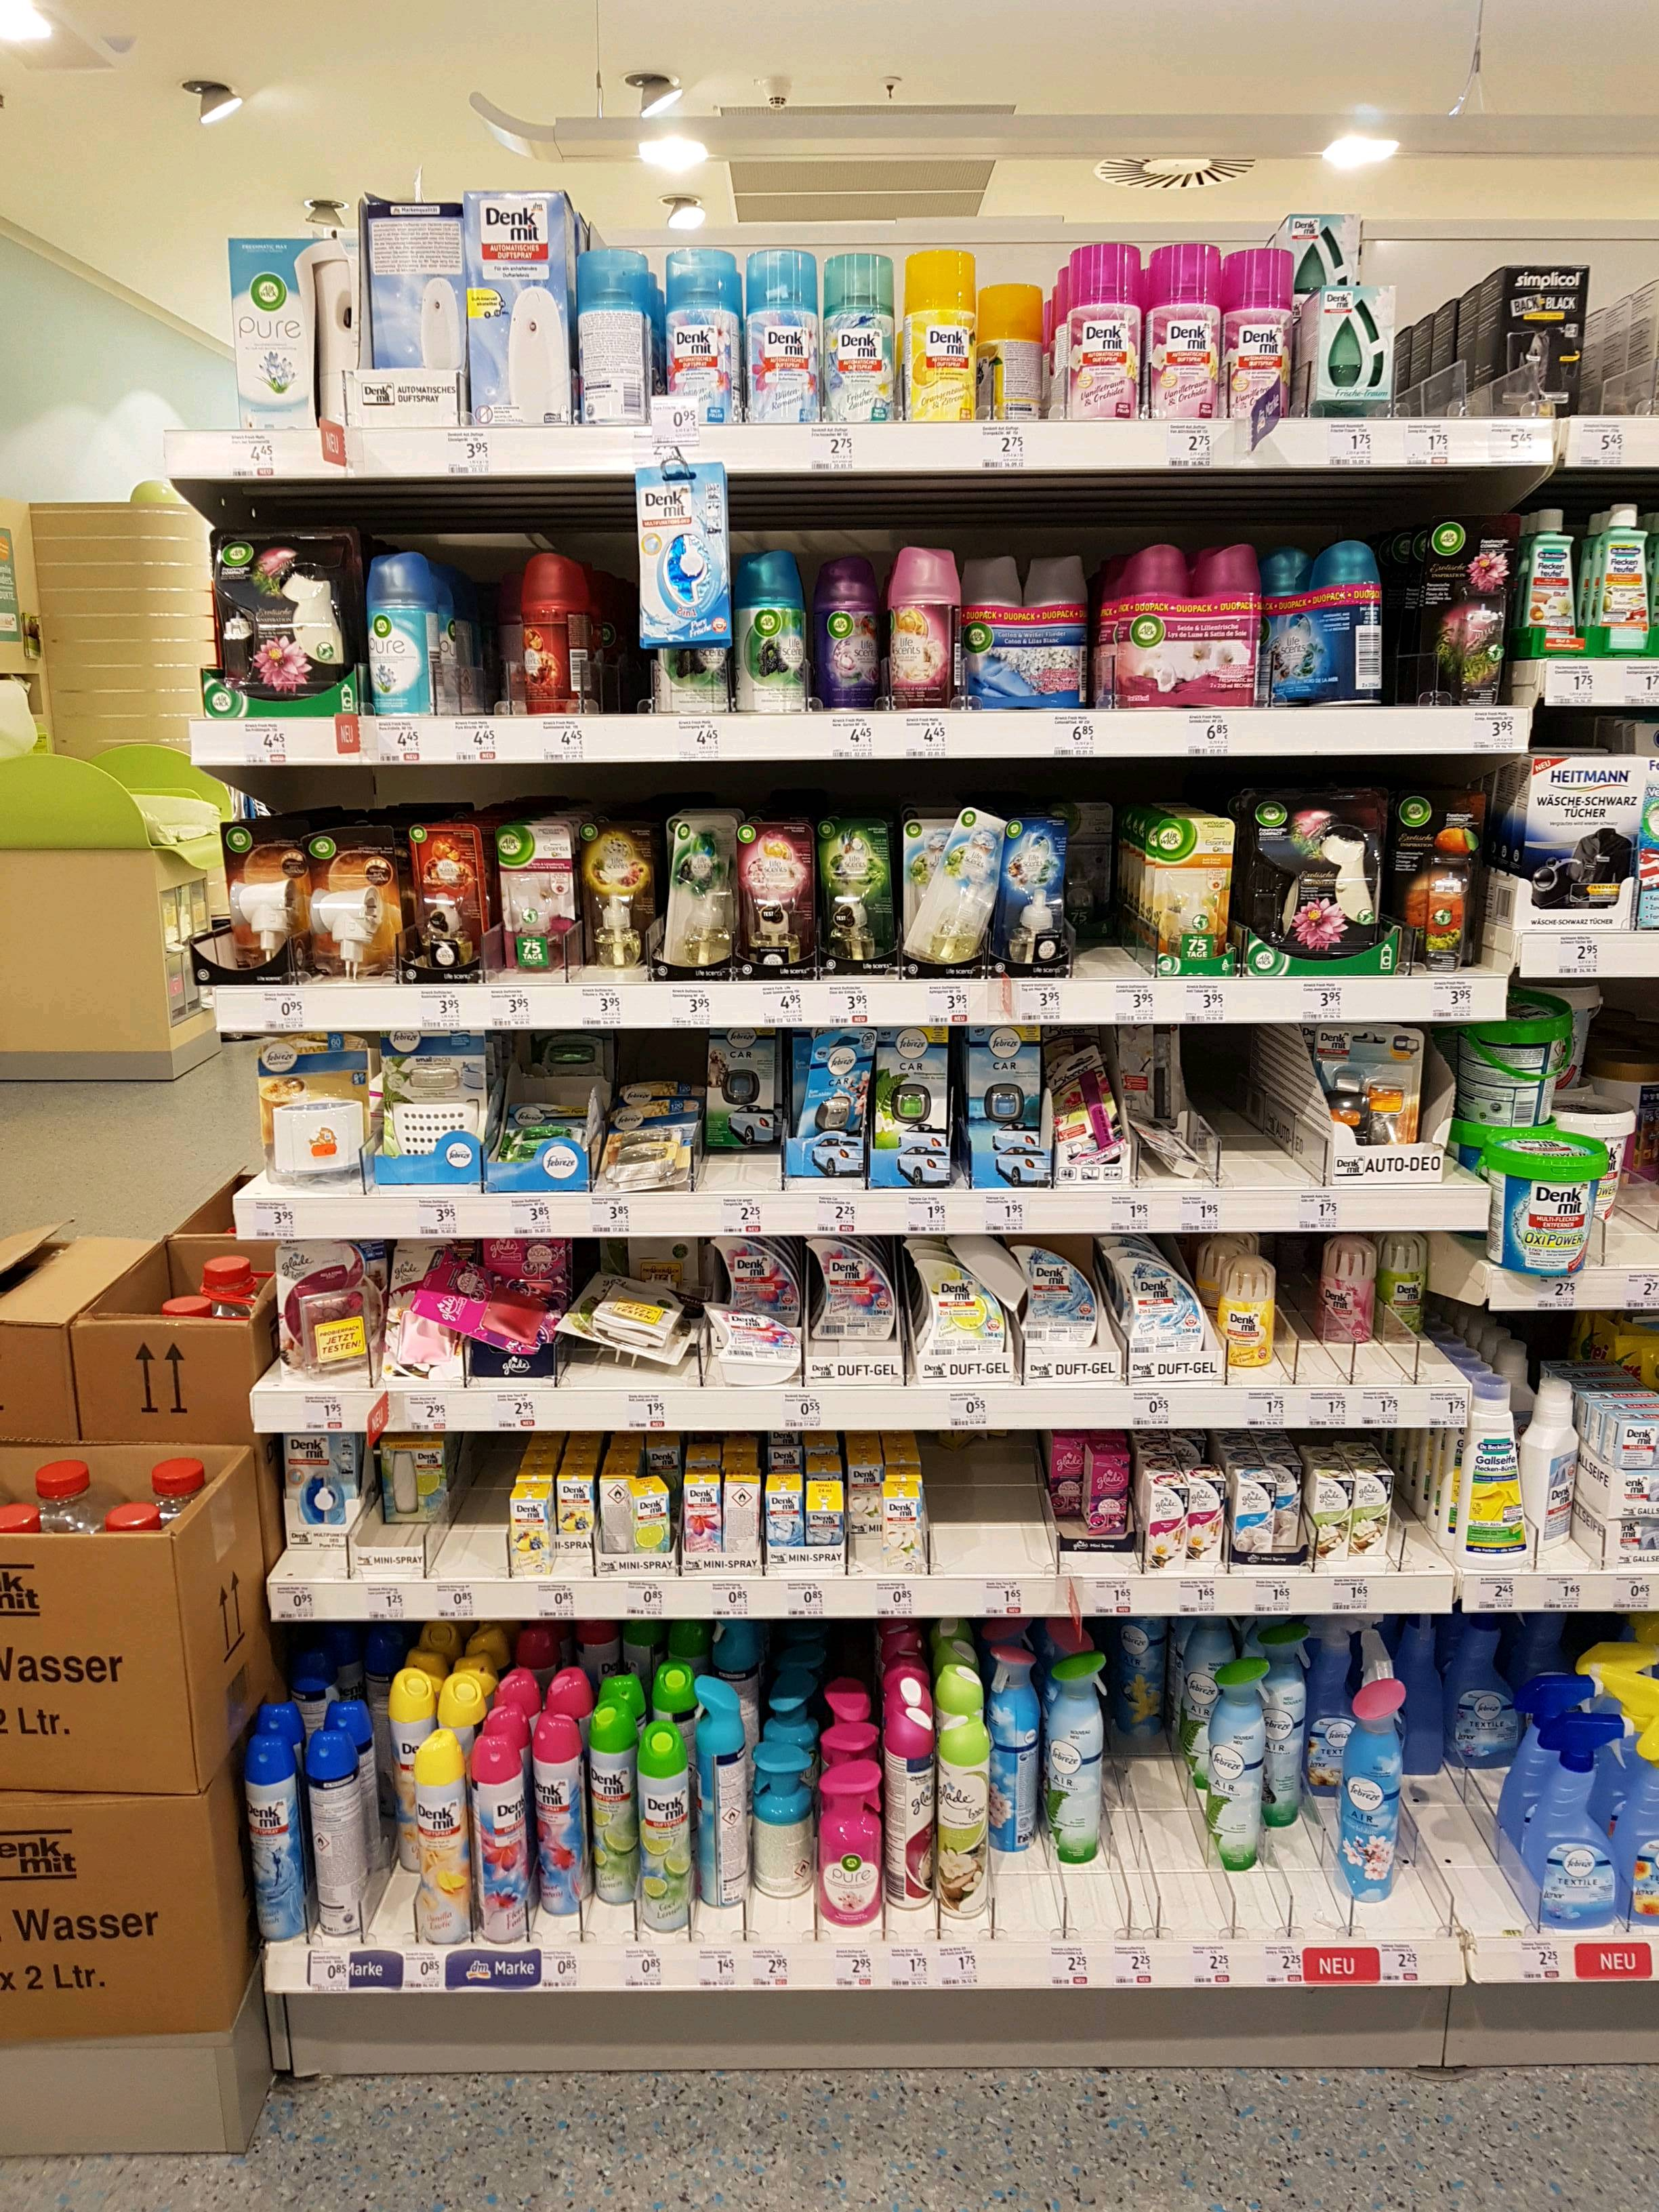Misplacement: (699, 1029, 781, 1191)
Out-of-stock: (924, 1446, 1054, 1575)
